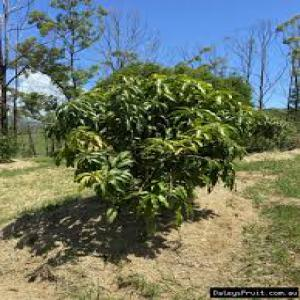Tree: (51, 54, 258, 234)
